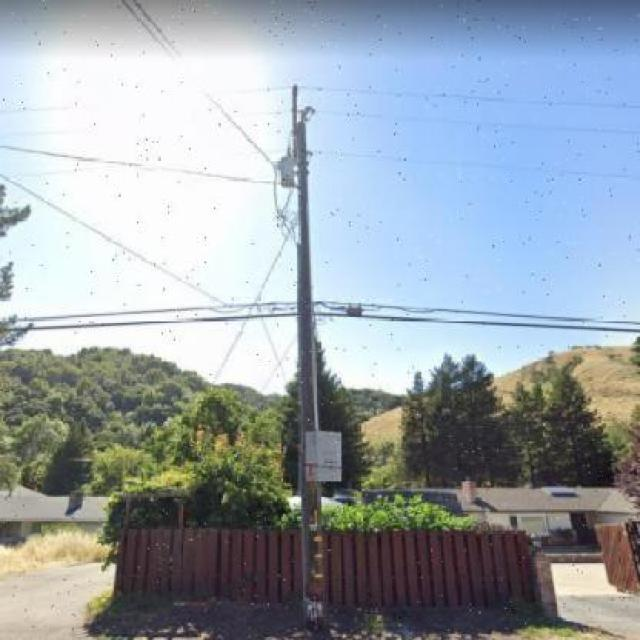pole: (242, 68, 353, 637)
